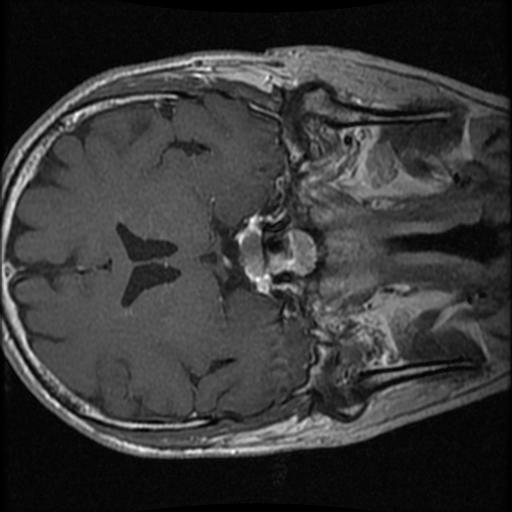pituitary tumour: (237, 213, 273, 295)
